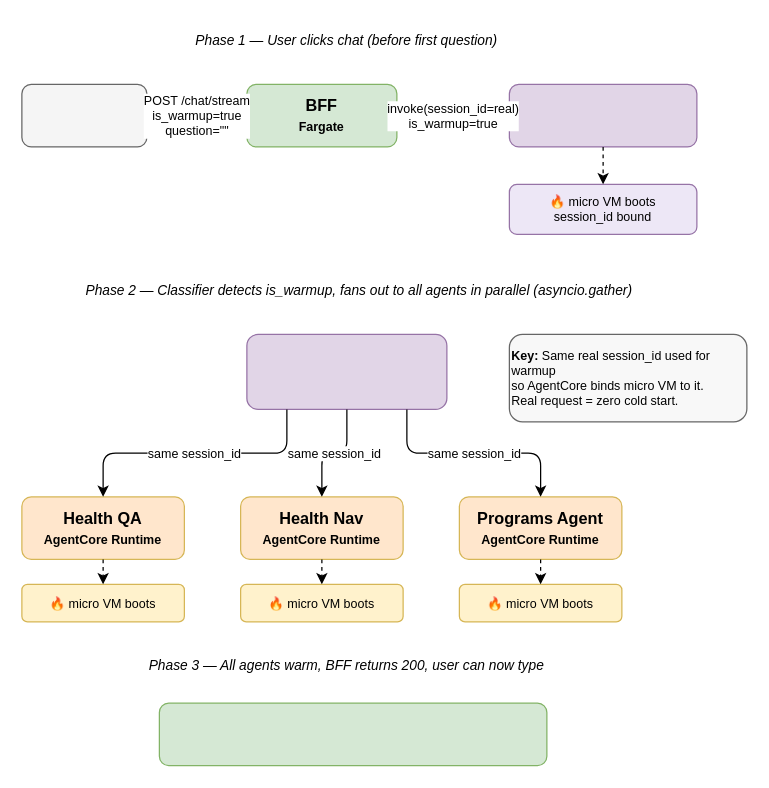
This 769x788 diagram has some shape labels left out. The shapes that lost their labels are listed below. From the top down, each one's centre as x and y in pixels, then its label:
the point at 84,115: UI
the point at 602,115: Classifier Agent AgentCore Runtime
the point at 346,371: Classifier Agent sees is_warmup=true skips classification
the point at 352,734: BFF → UI: 200 OK (warmup complete) all micro VMs warm and bound to session_id
